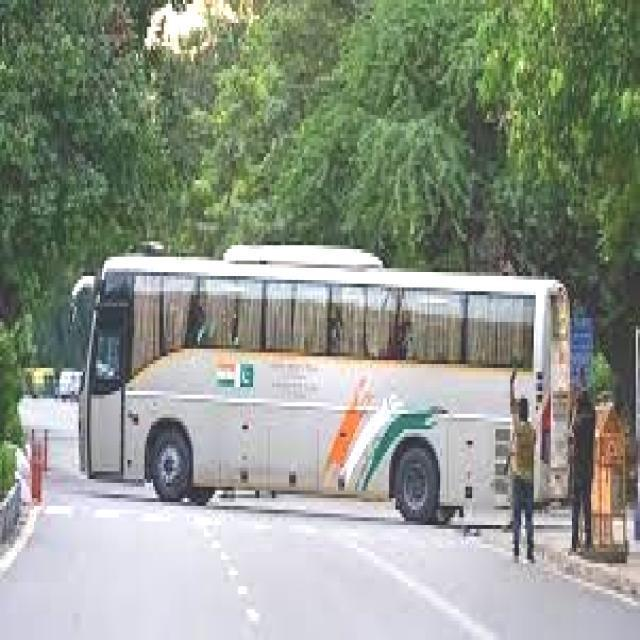Bus: (65, 248, 592, 530)
